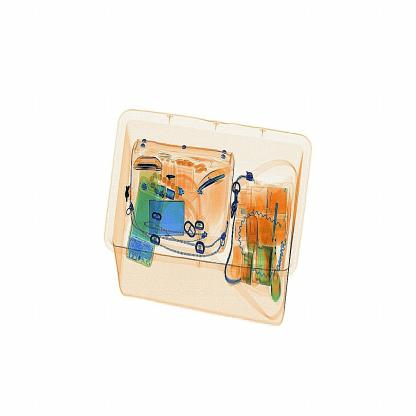pliers: (193, 160, 236, 196)
